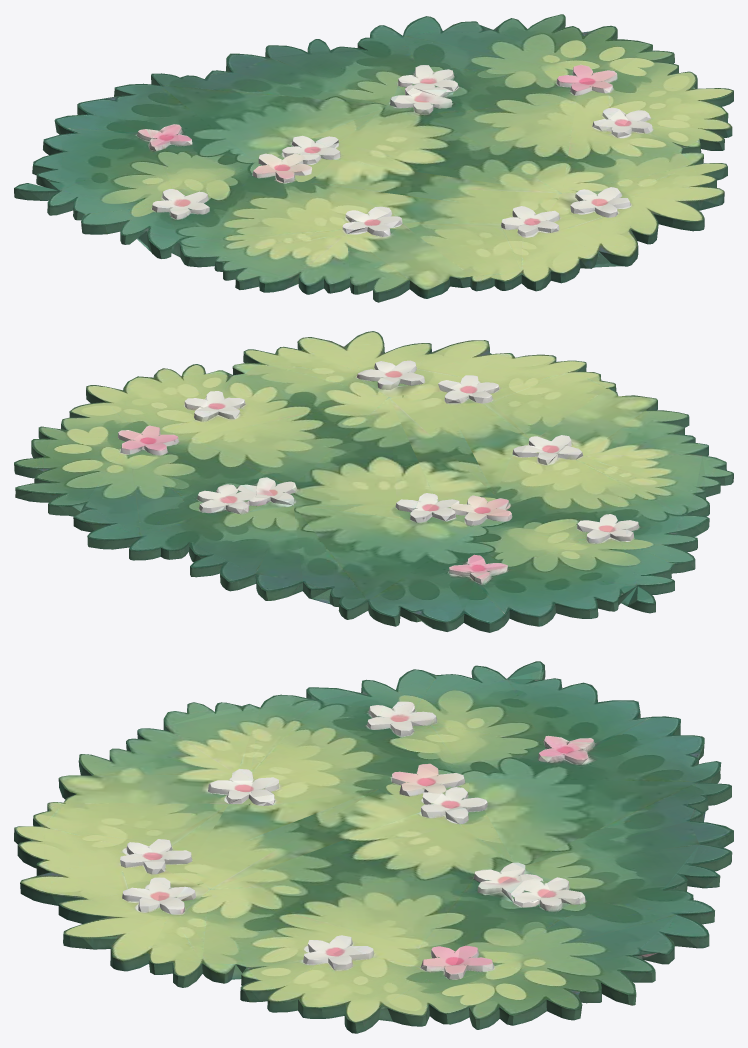
File: flower-bush.glb
3 views of the same model, one above another, from view 1: azimuth 30°, elevation 25°; view 2: azimuth 150°, elevation 25°; view 3: azimuth 270°, elevation 25° (orthographic). The views are drawn at different scales.
Size of the model in its own units: 1.9 by 0.0432 by 1.6.
Materials: 1 (1 with a texture image).
